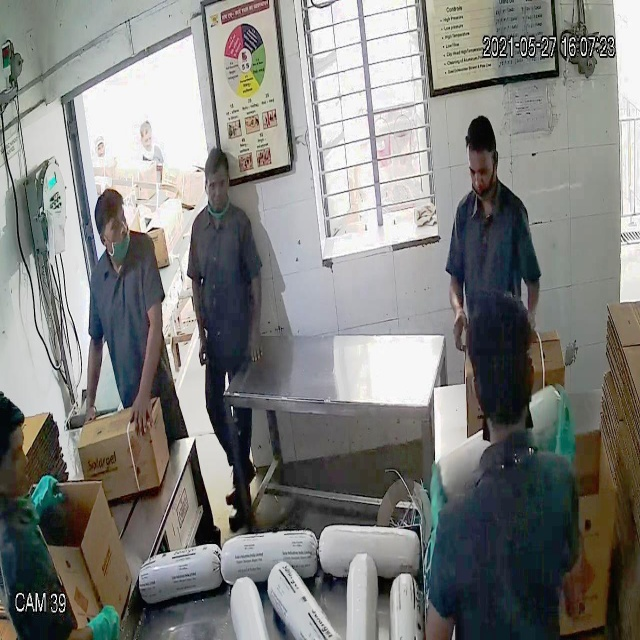Sin_gafas: (96, 205, 130, 243), (464, 152, 498, 188)
